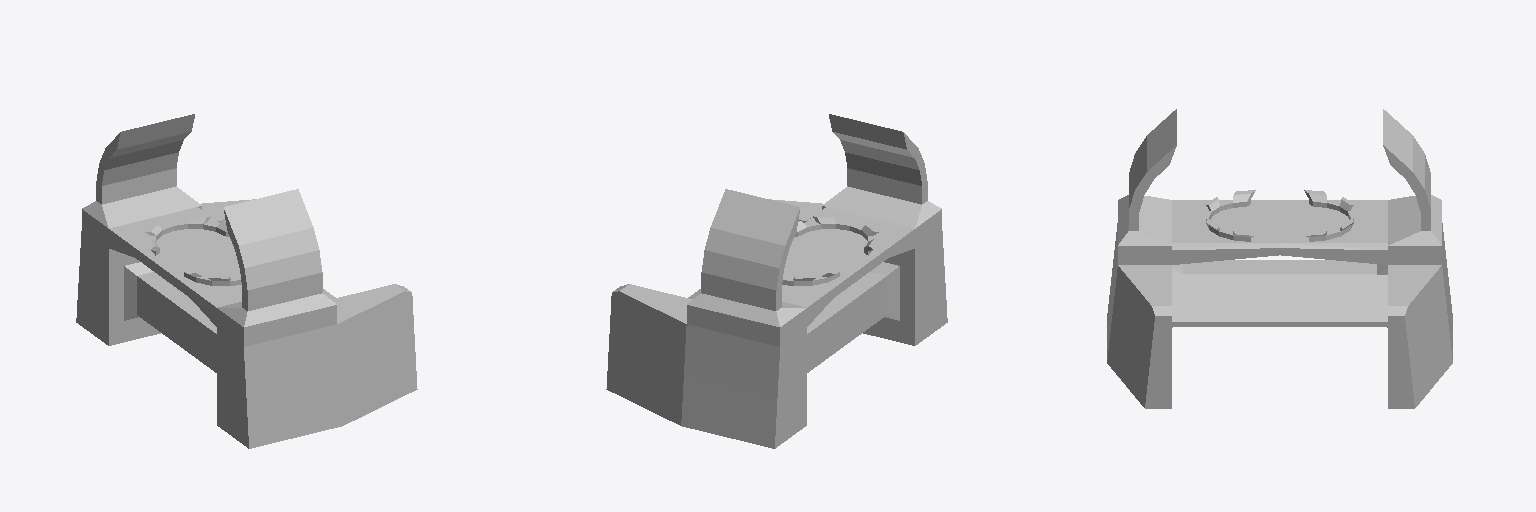
Rendered from Console v3.obj.
3 renders of one model, left to right at view 1: azimuth 30°, elevation 25°; view 2: azimuth 150°, elevation 25°; view 3: azimuth 270°, elevation 25°, orthographic.
Visible parts, largest first — view 1: Cube; view 2: Cube; view 3: Cube.
Boxes of the visible parts, <box> form: Cube: <box>76,114,417,448</box>; Cube: <box>606,114,947,448</box>; Cube: <box>1107,109,1452,408</box>.
Bounding box in the file's own units: 2.01 × 2.18 × 3.2.